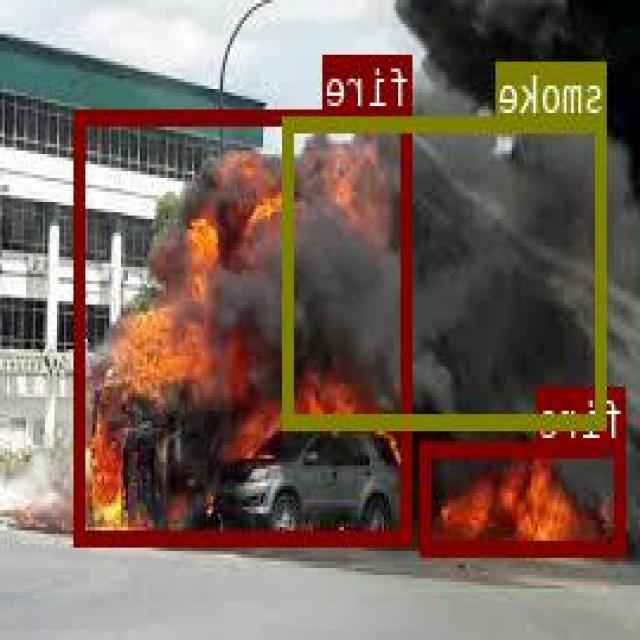fire: (77, 108, 414, 542), (424, 440, 626, 554)
smoke: (285, 115, 608, 428)
